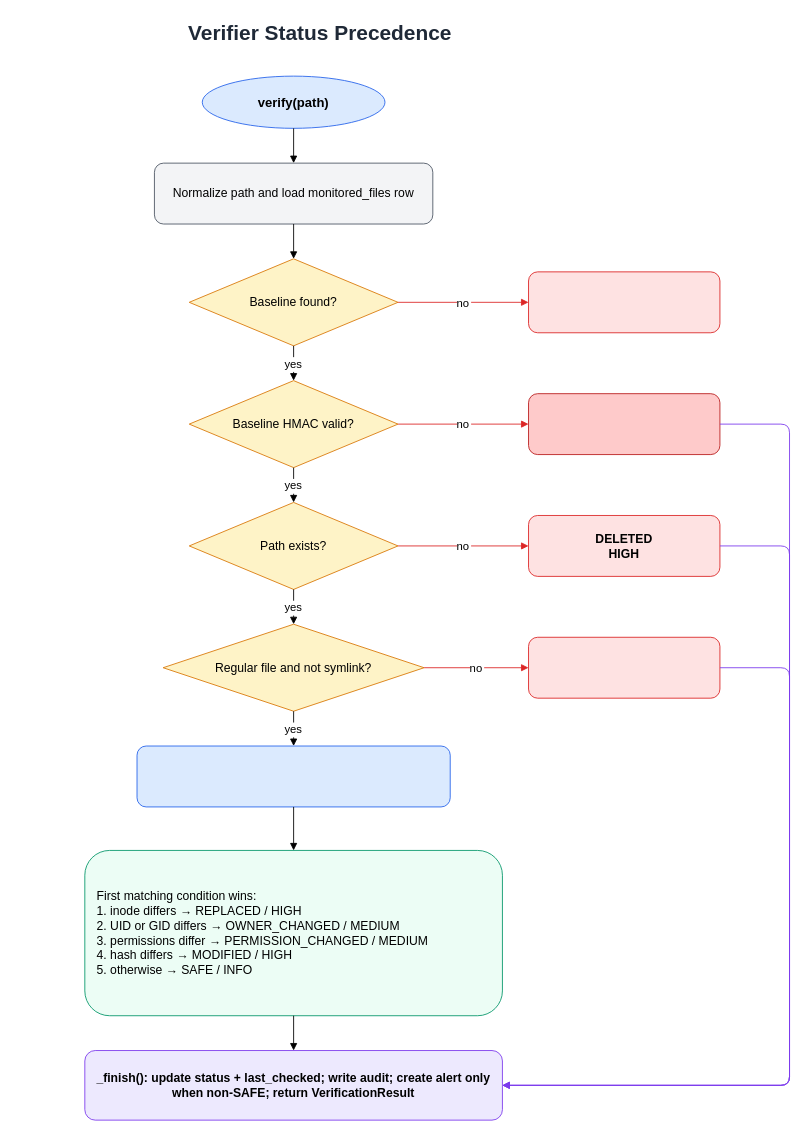
Image size: 812x1135. Some labels were removed from this diagram. Here are the shapes that lost their labels. From the top down, the centre of each, then its label:
At point (624, 302): "Raise ValueError file is not monitored".
At point (624, 424): "BASELINE_TAMPERED CRITICAL".
At point (624, 667): "REPLACED HIGH".
At point (293, 776): "Collect metadata and calculate current SHA-256".
